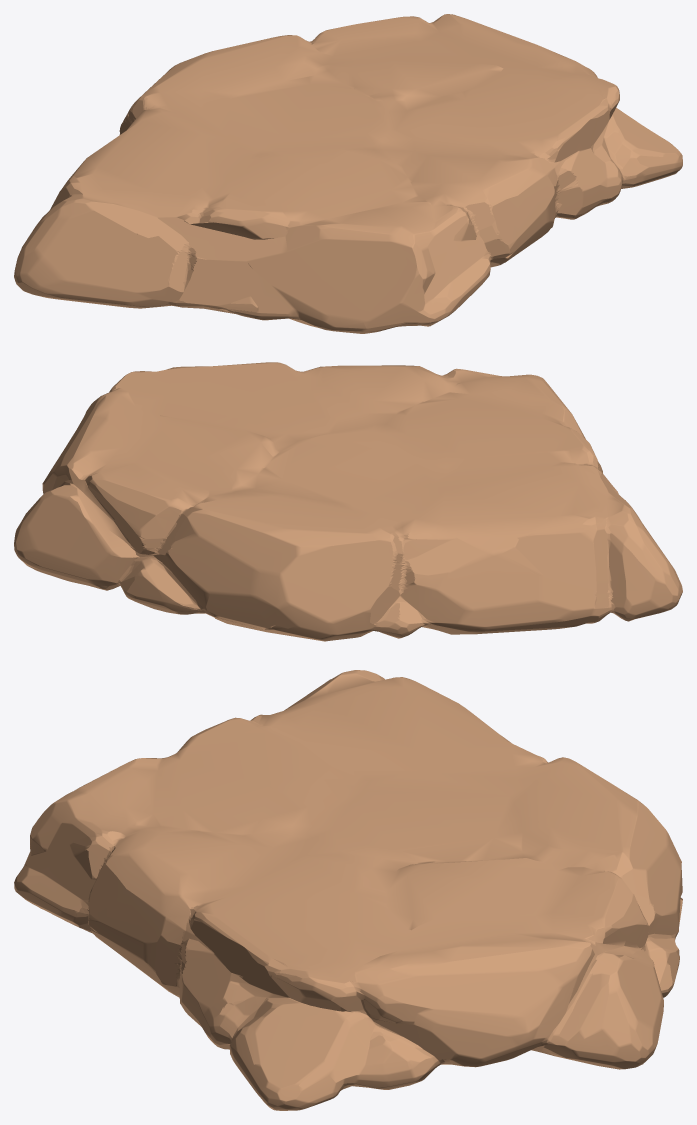
3 views of the same model, one above another, from view 1: azimuth 30°, elevation 25°; view 2: azimuth 150°, elevation 25°; view 3: azimuth 270°, elevation 25° (orthographic). The views are drawn at different scales.
Parts seen in each view (by area): view 1: Mesh_21_LOD0; view 2: Mesh_21_LOD0; view 3: Mesh_21_LOD0.
Boxes of the visible parts, x1,y1,x2,y2 form: Mesh_21_LOD0: (14, 14, 682, 333); Mesh_21_LOD0: (14, 362, 682, 641); Mesh_21_LOD0: (14, 670, 682, 1110).
Size of what is drawn, in the model's own units: 4239 by 668 by 3202.
